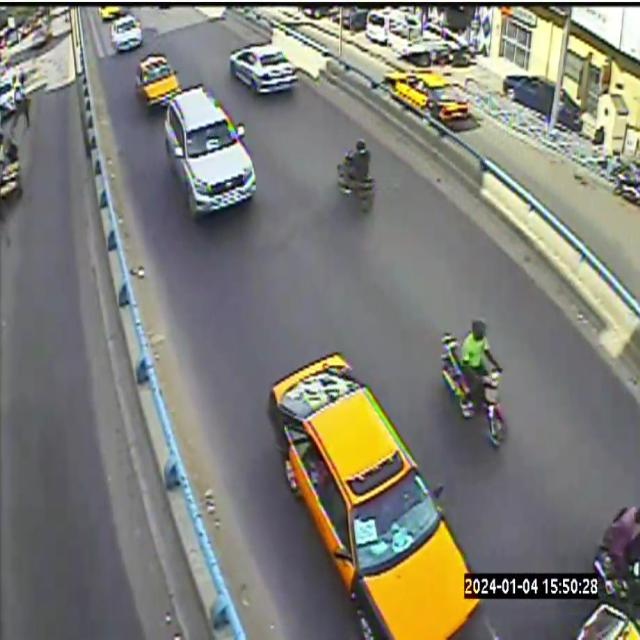car: (268, 354, 492, 639), (165, 85, 255, 217), (384, 72, 471, 126), (230, 43, 297, 92), (136, 53, 180, 108), (111, 15, 142, 51)
